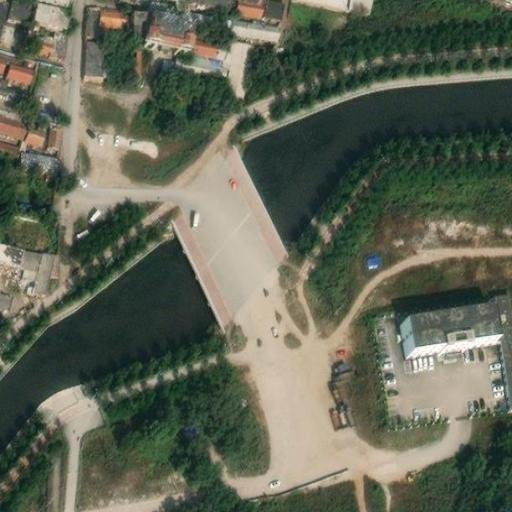building: (403, 303, 497, 347), (493, 301, 512, 411), (226, 16, 280, 41), (169, 52, 222, 77), (144, 13, 186, 41), (16, 145, 60, 171), (32, 30, 63, 60), (82, 31, 105, 69), (34, 0, 69, 21), (191, 33, 223, 55), (24, 116, 48, 142), (0, 236, 24, 261), (8, 57, 36, 77), (127, 45, 144, 75), (98, 3, 124, 18), (233, 0, 263, 12), (345, 0, 372, 12), (0, 284, 14, 304), (182, 22, 197, 38), (0, 52, 7, 69)
